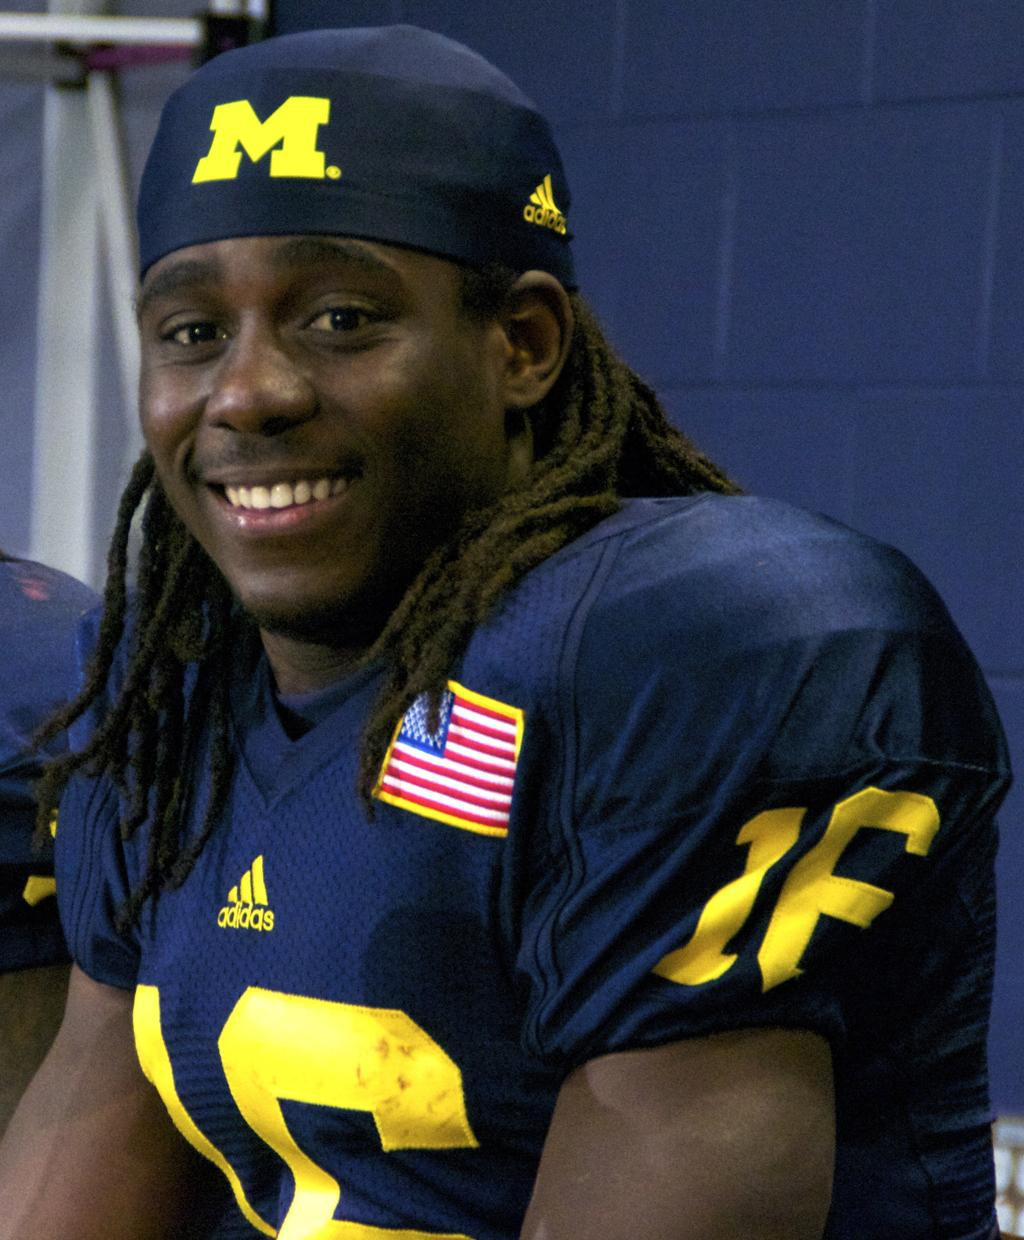face: (144, 224, 514, 621)
